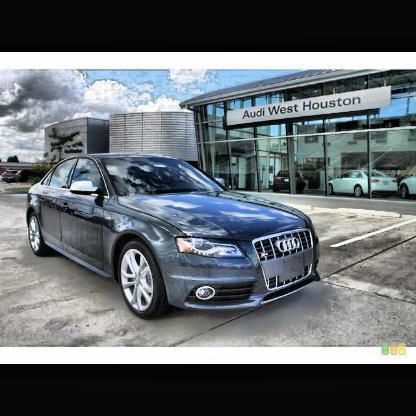Audi S4 Sedan 2012: (26, 154, 324, 322)
